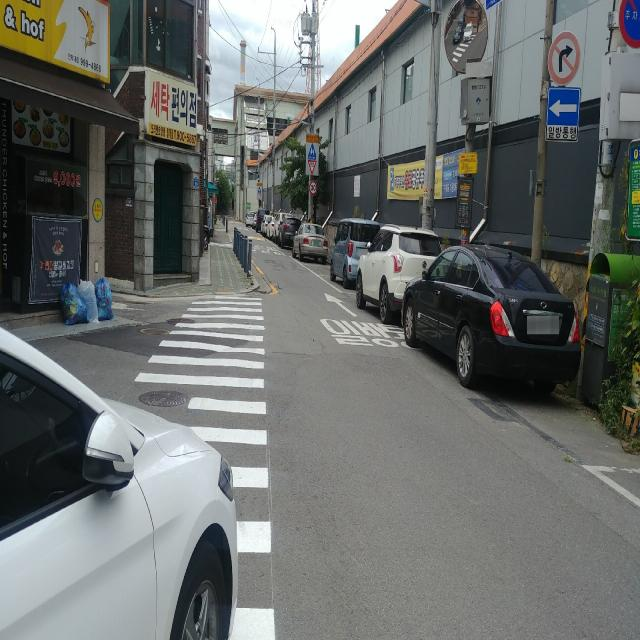횡단보도: (133, 296, 277, 639)
